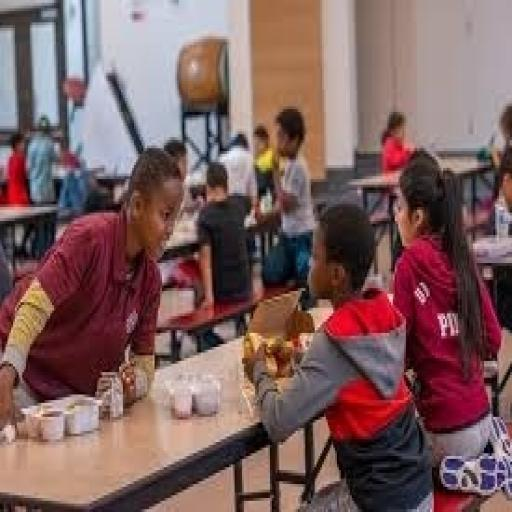eating: (242, 199, 436, 509), (0, 143, 188, 431), (389, 148, 510, 506), (257, 104, 316, 288)
